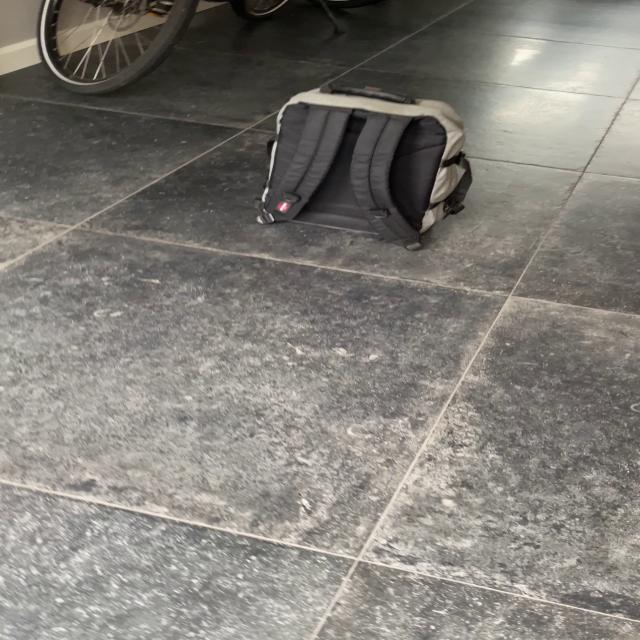backpack: (250, 81, 482, 245)
